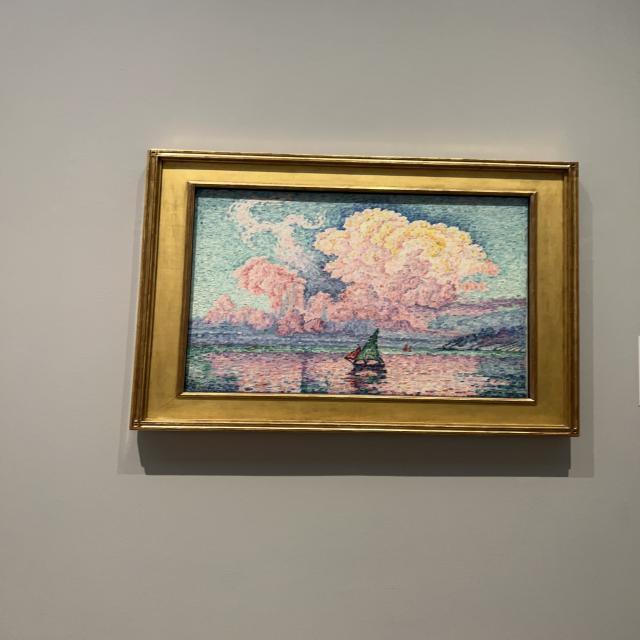sunrise: (184, 194, 527, 390)
